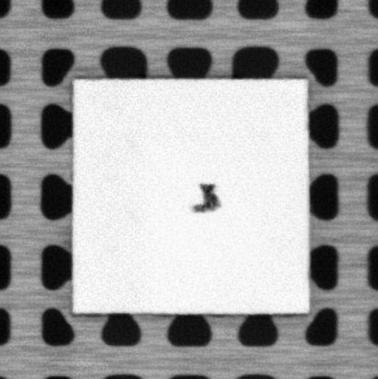DIE_INK: (190, 182, 224, 214)
